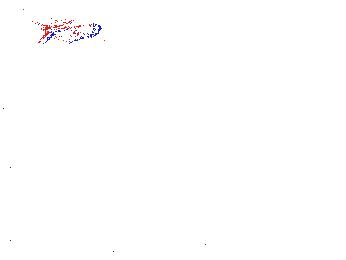X-ray fish: (203, 153, 236, 177)
redtail glassfish: (35, 19, 103, 44)
